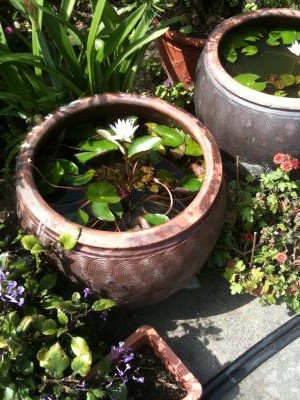bowl: (11, 91, 224, 312), (193, 7, 300, 164)
